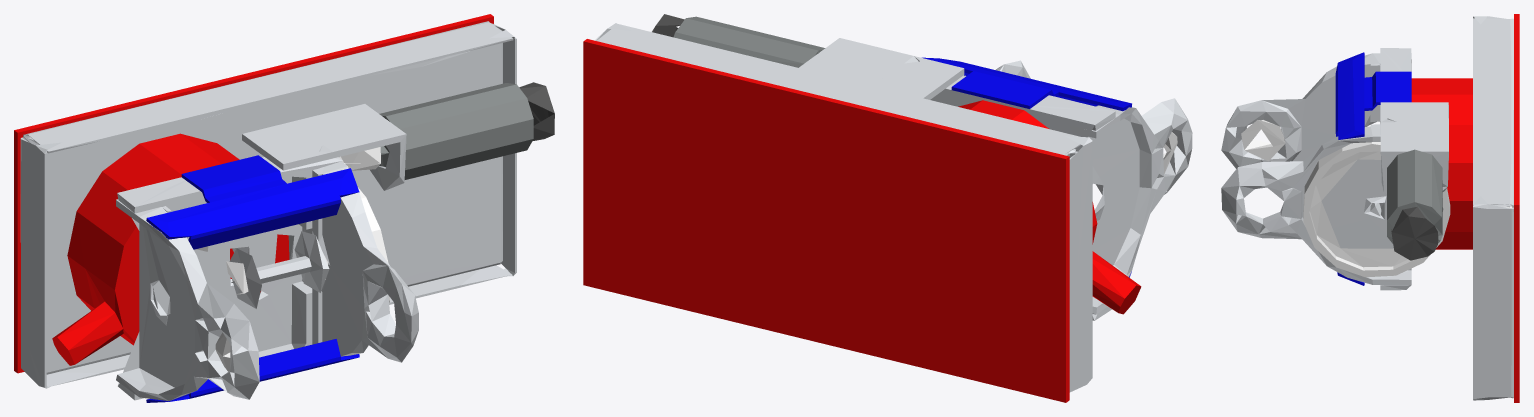
The model's file is LLEG_LINK5_mesh.dae.
3 views of the same model, side by side, from view 1: azimuth 30°, elevation 25°; view 2: azimuth 150°, elevation 25°; view 3: azimuth 270°, elevation 25° (orthographic). The views are drawn at different scales.
Visible parts, largest first — view 1: LLEG_LINK5 (×13); view 2: LLEG_LINK5 (×7); view 3: LLEG_LINK5 (×12).
Part boxes in pixels (x1,y1,x2,y2): LLEG_LINK5 (×13): [14, 14, 554, 402]; LLEG_LINK5 (×7): [583, 16, 1192, 402]; LLEG_LINK5 (×12): [1221, 14, 1519, 402].
Size of the model in its own units: 0.2384 by 0.112 by 0.1531.
